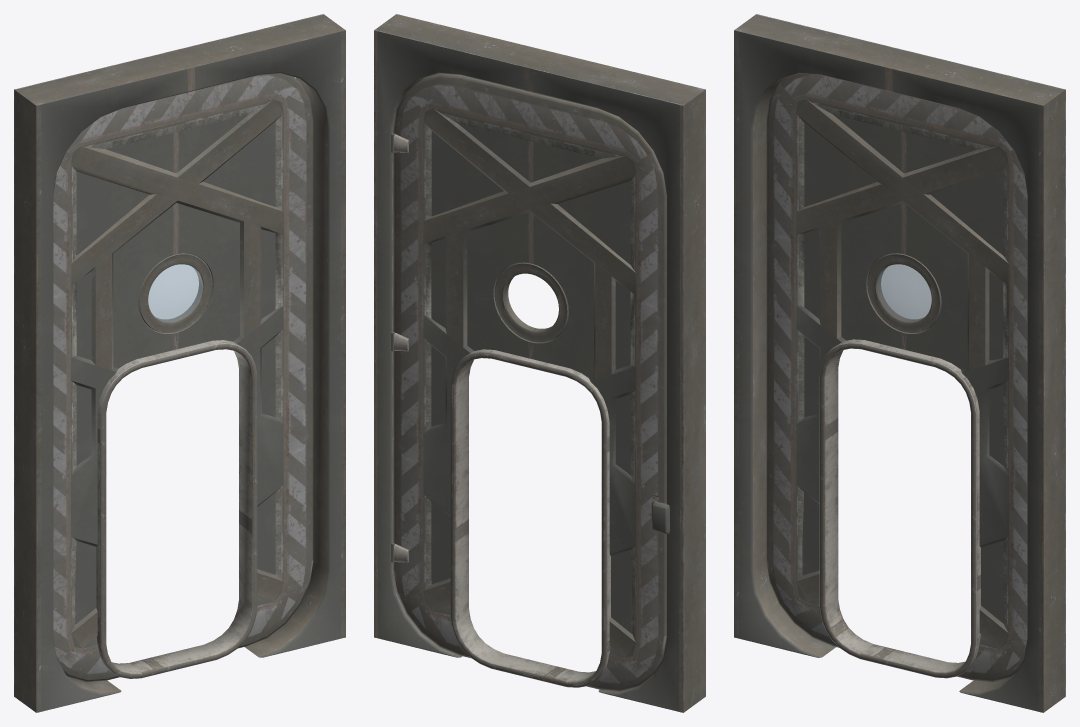
File: SM_SecureDoor_LabFrame_mo.glb
3 views of the same model, side by side, from view 1: azimuth 30°, elevation 25°; view 2: azimuth 150°, elevation 25°; view 3: azimuth 330°, elevation 25° (orthographic).
Visible parts, largest first — view 1: SM_SecureDoor_LabFrame_mo; view 2: SM_SecureDoor_LabFrame_mo; view 3: SM_SecureDoor_LabFrame_mo.
Part boxes in pixels (x1,y1,x2,y2): SM_SecureDoor_LabFrame_mo: (14, 14, 345, 712); SM_SecureDoor_LabFrame_mo: (374, 14, 705, 712); SM_SecureDoor_LabFrame_mo: (734, 14, 1065, 712).
Size of the model in its own units: 3.01 by 5.65 by 0.4147.
2 materials, 1 textured.
